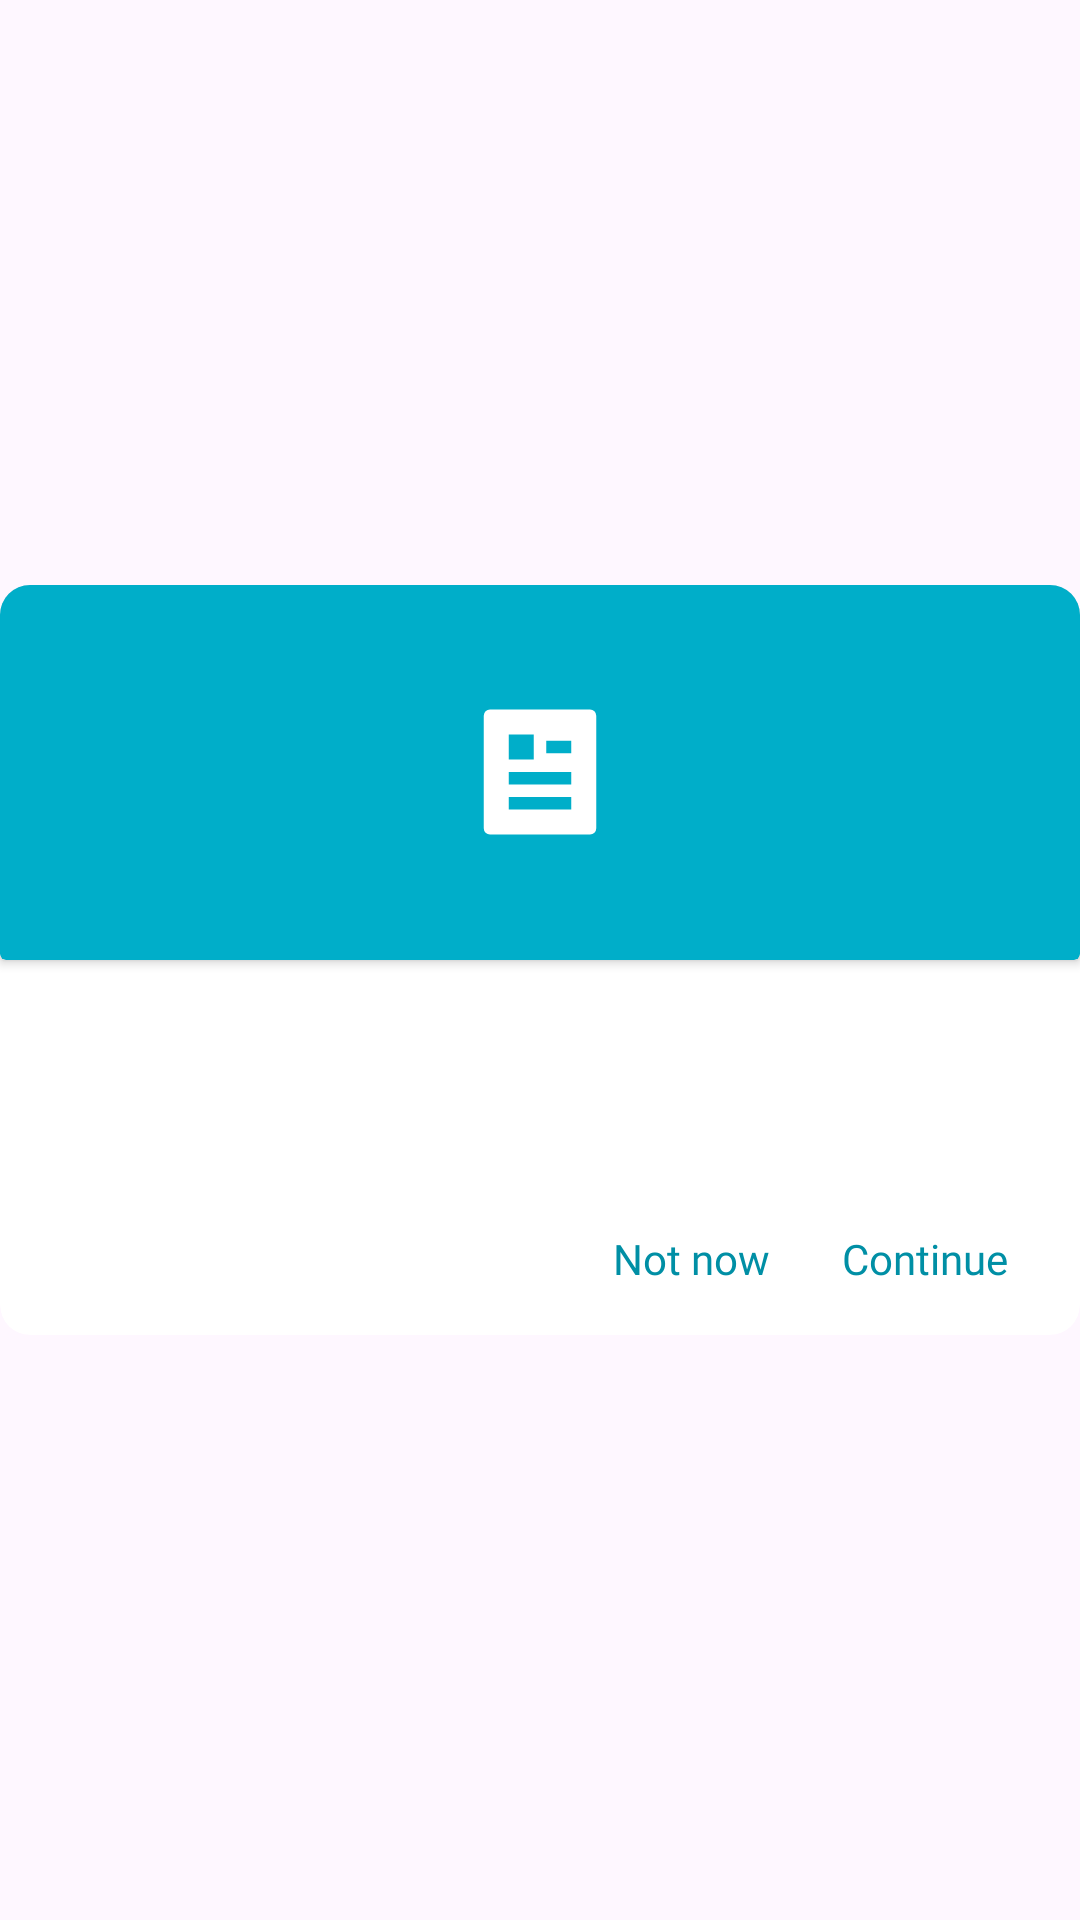

Screen size 1080×1920. Icon name, then its center in pixels as [x,y]:
blog: [540,772]
